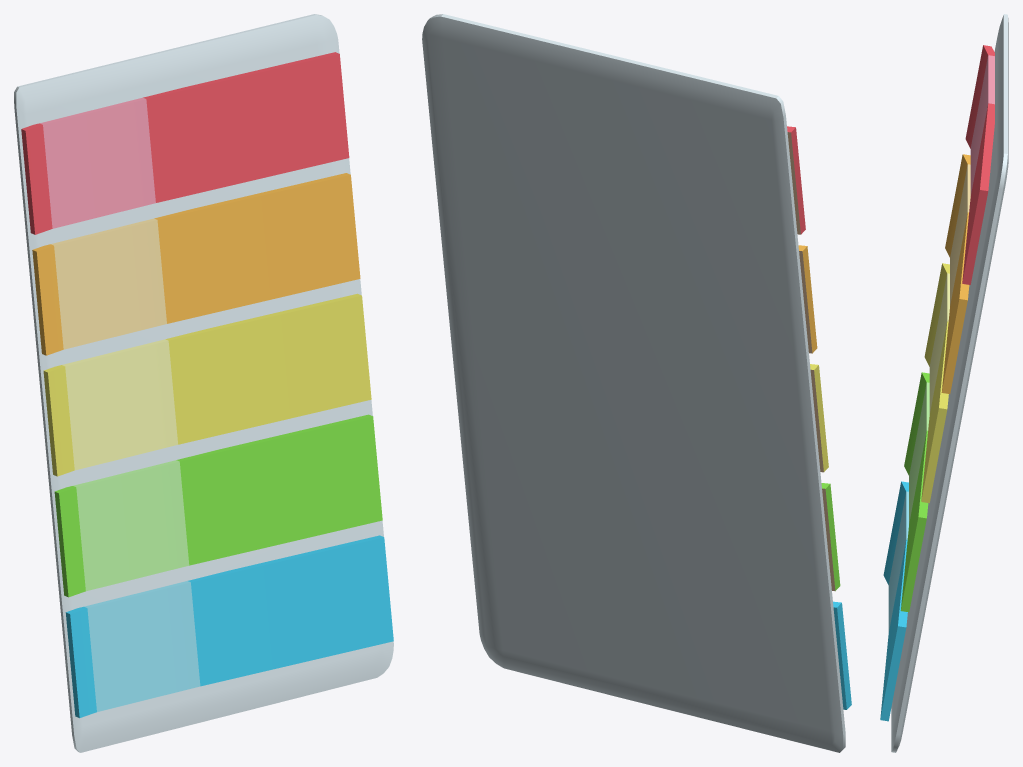
File: 인덱스포스트잇_세로형.fbx
The picture shows the model from 3 angles, left to right: view 1: azimuth 30°, elevation 25°; view 2: azimuth 150°, elevation 25°; view 3: azimuth 270°, elevation 25°; orthographic projection. The views are drawn at different scales.
Parts seen in each view (by area): view 1: stickers_small; view 2: stickers_small; view 3: stickers_small.
Boxes of the visible parts, box(x1,y1,x2,y2) form: stickers_small: box(14, 14, 393, 752); stickers_small: box(422, 14, 851, 752); stickers_small: box(880, 14, 1008, 752).
Size of the model in its own units: 452 by 834 by 162.
